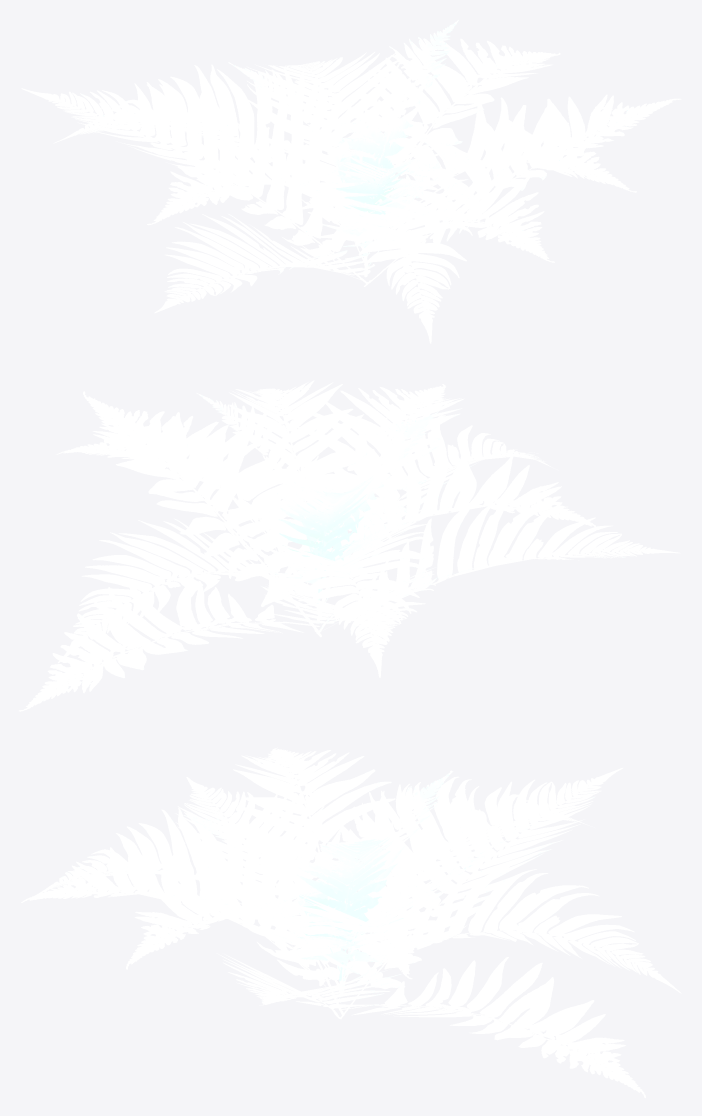
3 views of the same model, one above another, from view 1: azimuth 30°, elevation 25°; view 2: azimuth 150°, elevation 25°; view 3: azimuth 270°, elevation 25° (orthographic). The views are drawn at different scales.
Visible parts, largest first — view 1: SM_Fern_03_LOD0; view 2: SM_Fern_03_LOD0; view 3: SM_Fern_03_LOD0.
Boxes of the visible parts, x1,y1,x2,y2 form: SM_Fern_03_LOD0: [21, 20, 681, 343]; SM_Fern_03_LOD0: [19, 380, 680, 711]; SM_Fern_03_LOD0: [21, 747, 681, 1097].
Size of the model in its own units: 0.73 by 0.2883 by 0.7266.
Materials: 1 (1 with a texture image).
